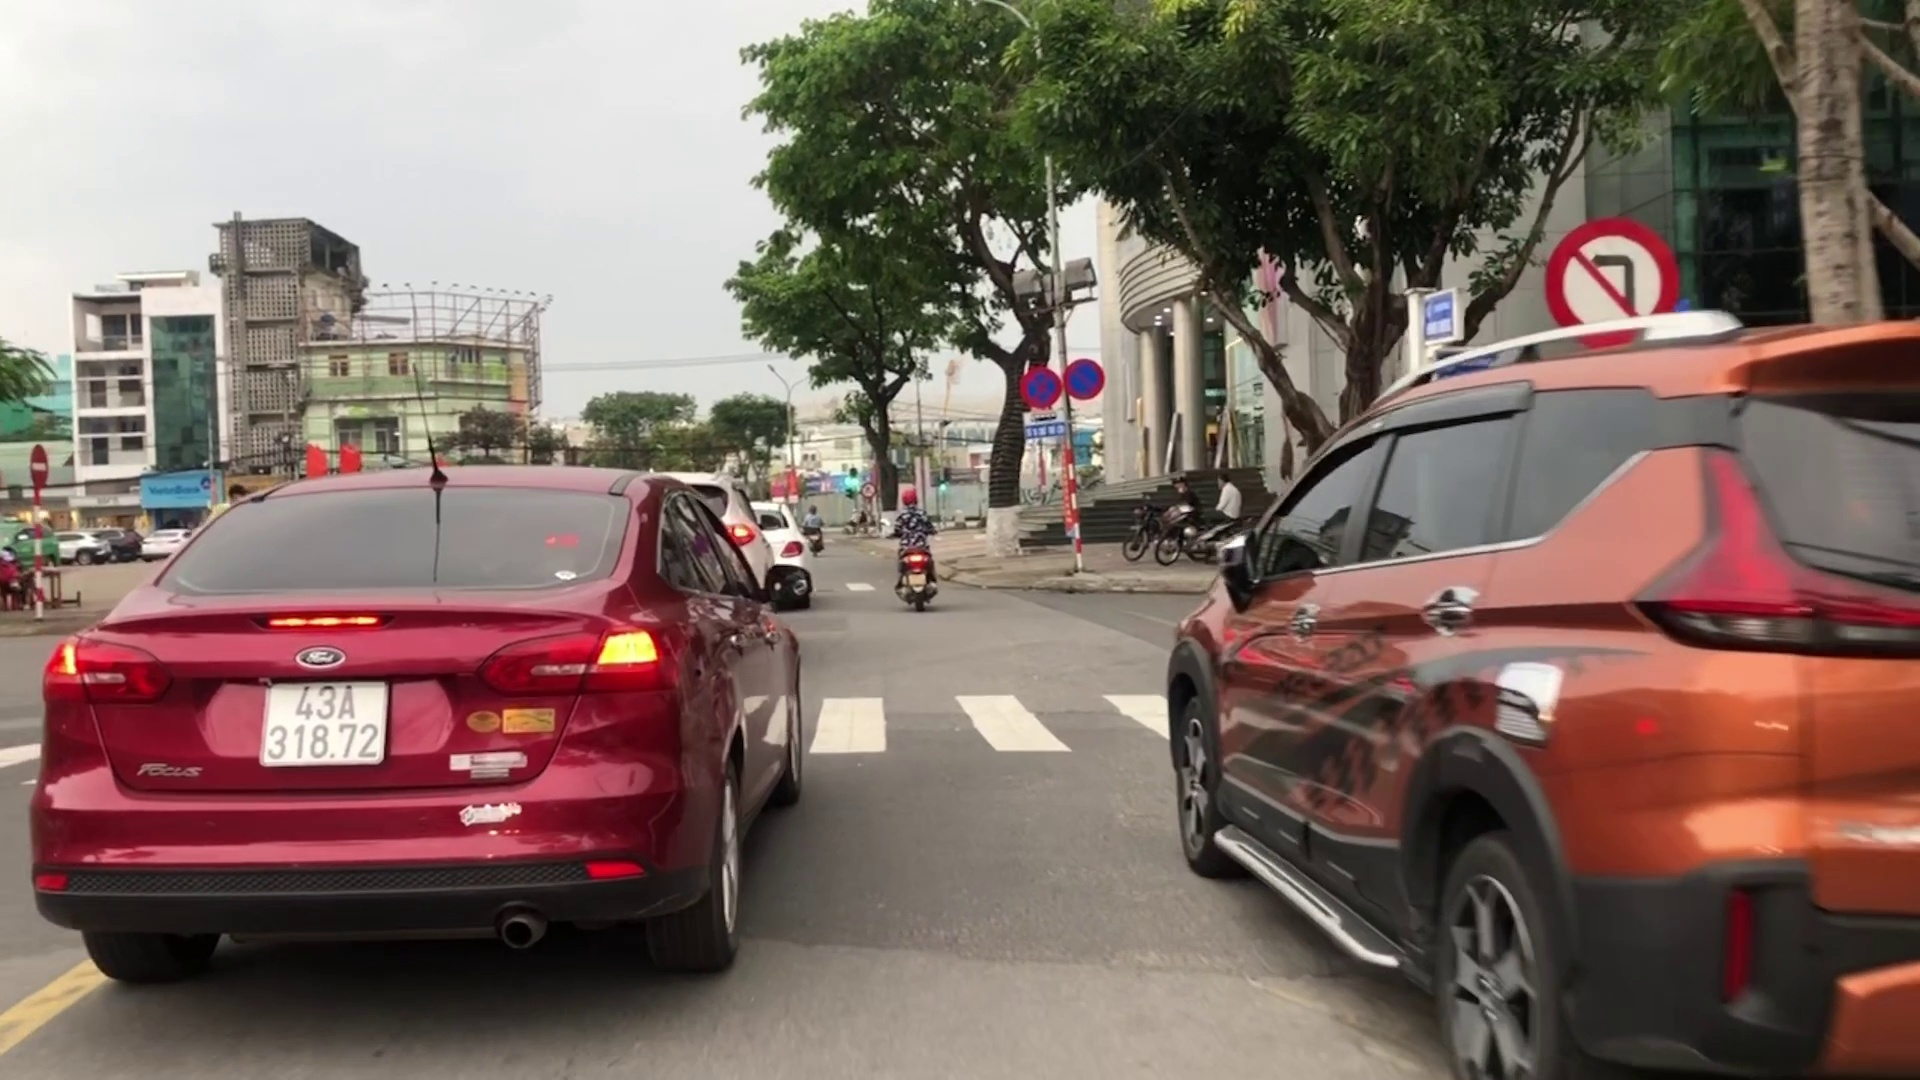Bien khac: (1543, 219, 1677, 331), (1013, 361, 1062, 411)
Cam do xe: (1067, 360, 1098, 394)
